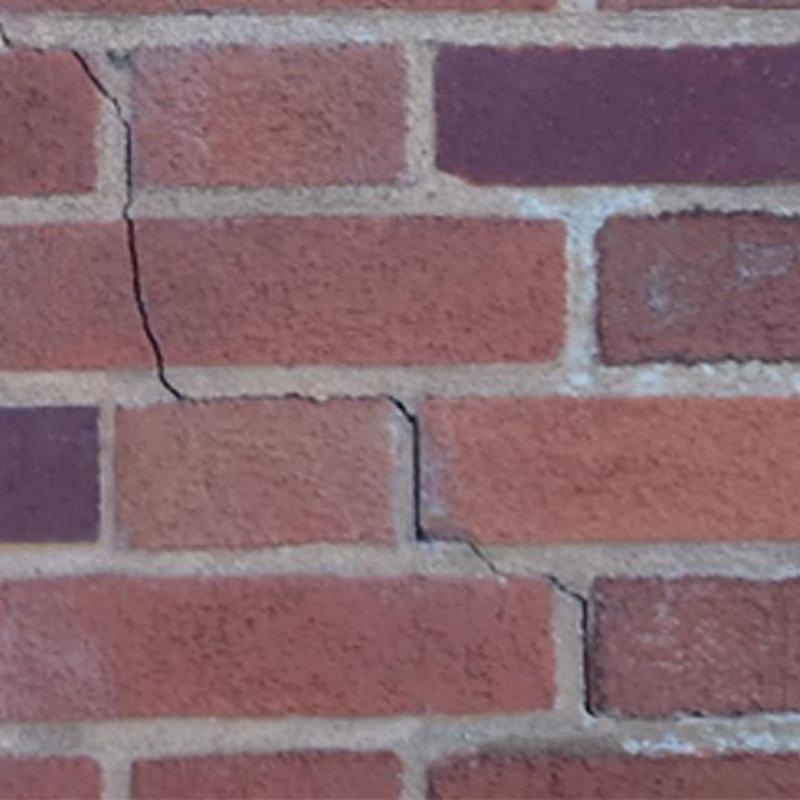crack: (69, 49, 185, 400), (385, 396, 507, 576), (527, 568, 599, 718), (185, 392, 386, 404), (0, 23, 44, 51)
